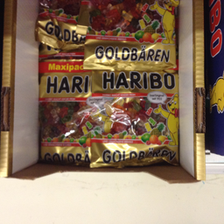candy: (91, 71, 181, 166), (86, 2, 180, 68), (37, 75, 94, 163), (30, 3, 88, 58)
